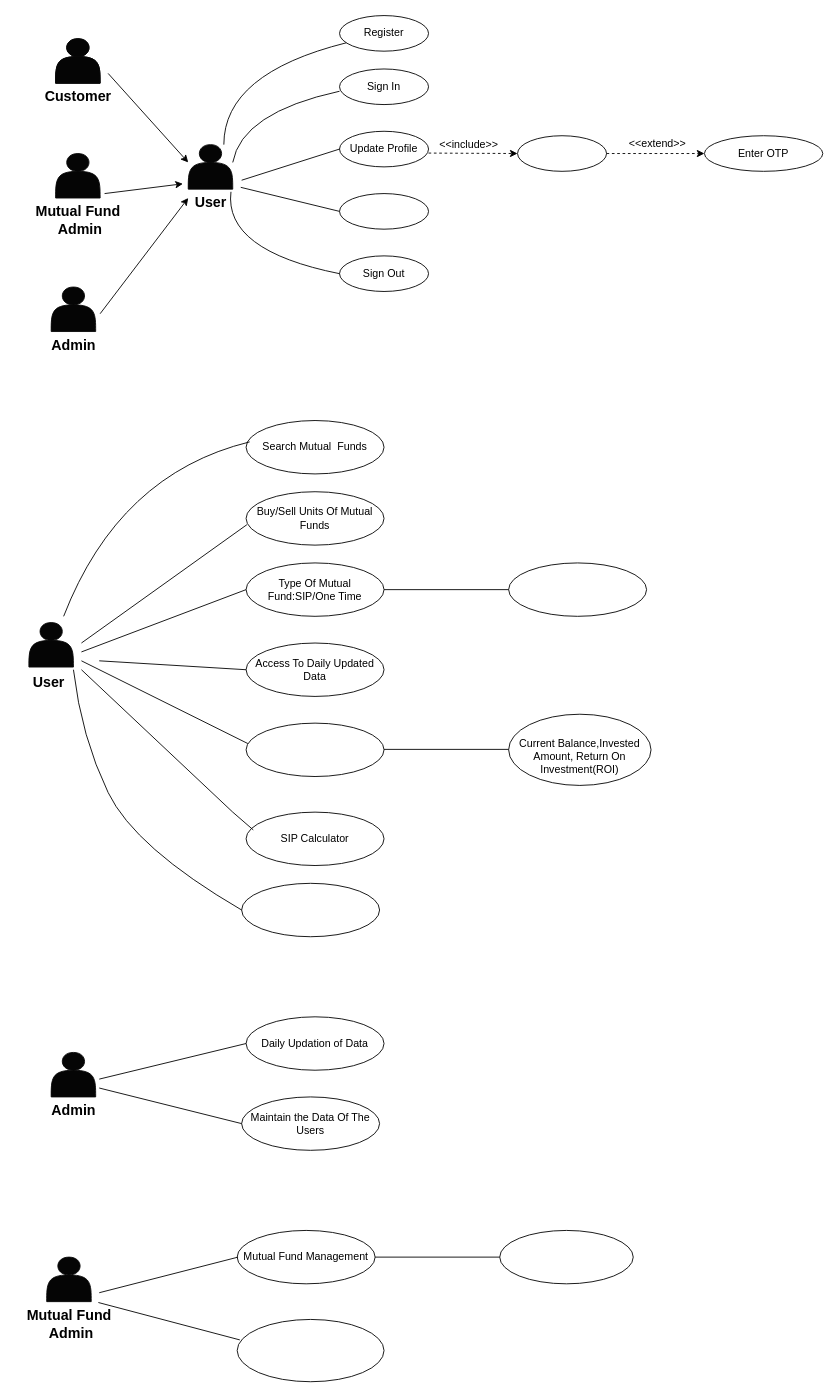
This 838x1397 diagram has some shape labels left out. The shapes that lost their labels are listed below. From the top down, each one's centre as x and y in pixels, then its label:
At [562,153]: "Send_Verify OTP".
At [384,211]: "Reset Password".
At [577,589]: "Time Span Of The Investment".
At [314,749]: "User's Portfolio".
At [310,909]: "Report Of Investment In PDF Format".
At [566,1257]: "Maintaining the Data of Mutual Fund Exchange".
At [310,1350]: "Allotment of Number of Units For Each Mutual Fund".
